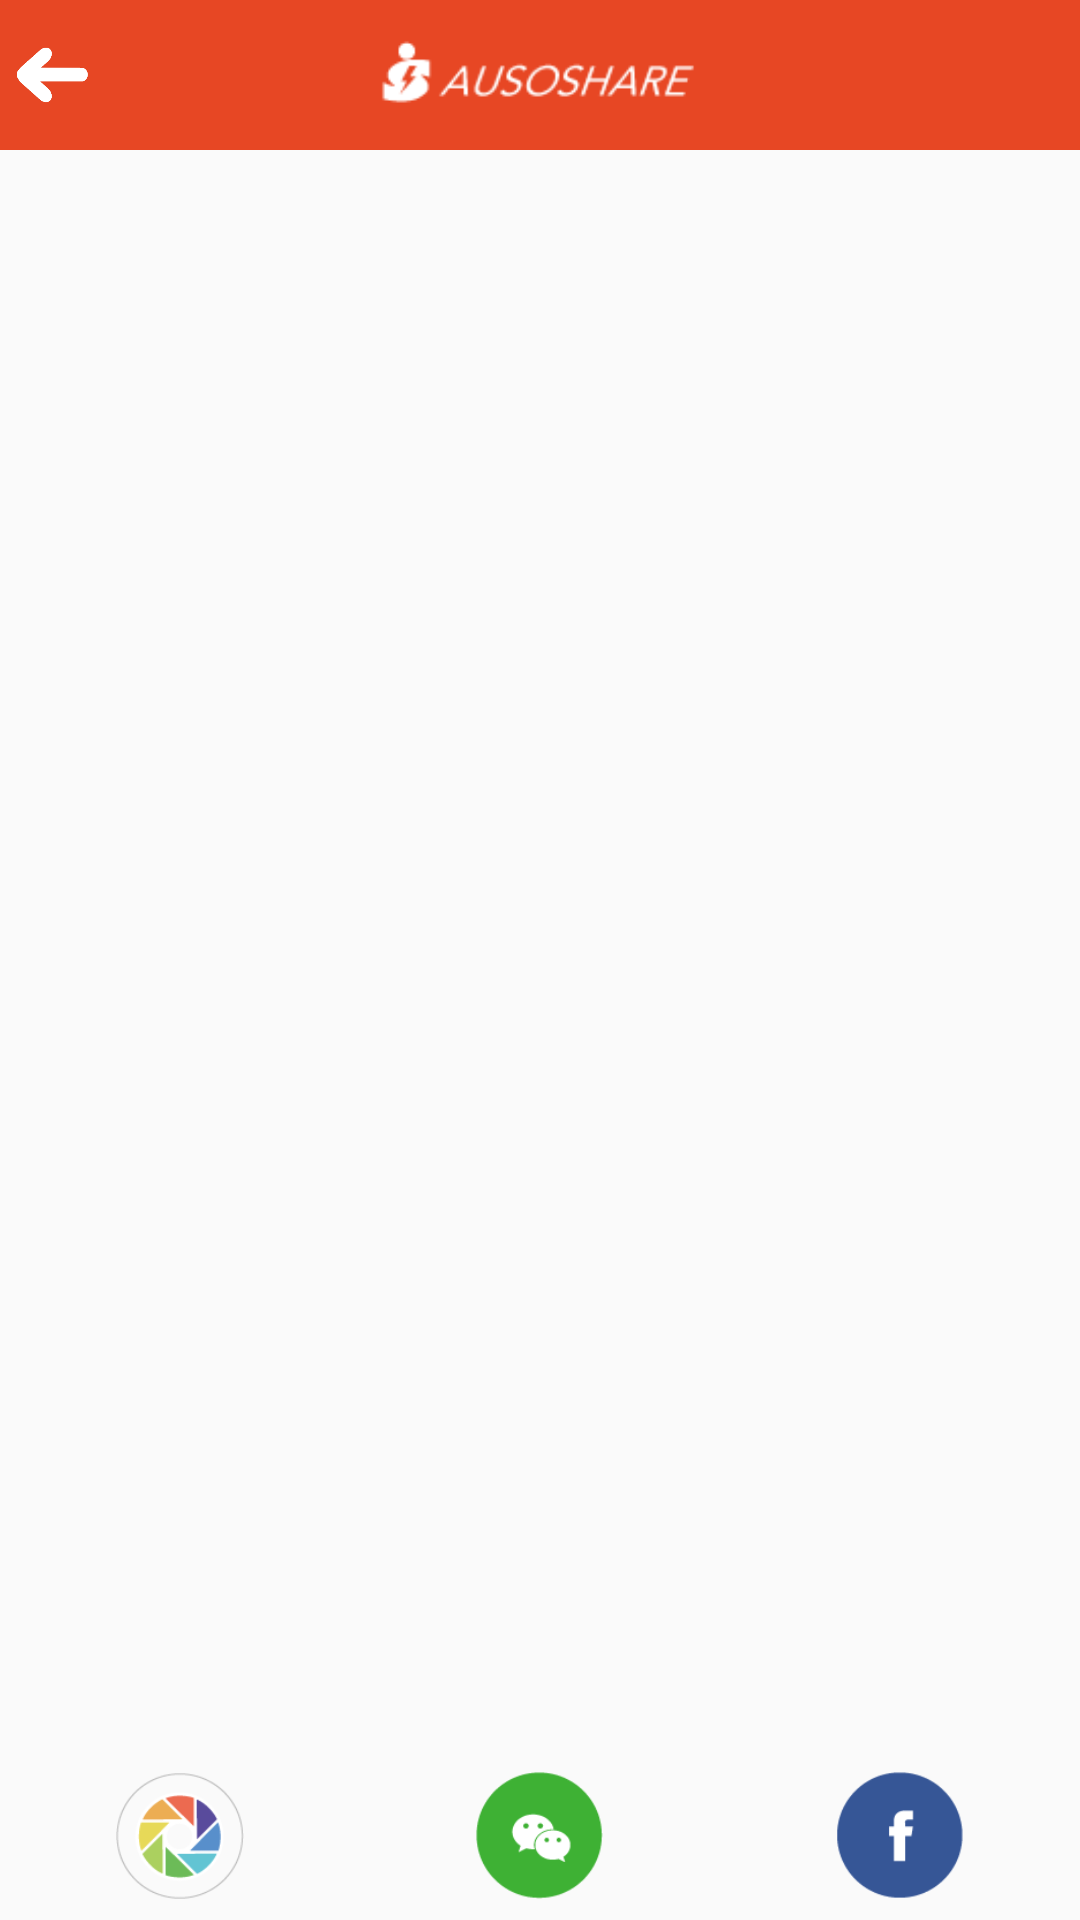

Icon bounding boxes for this 1080 x 1920 phone screenshot, format (x1, y1, x2, y2):
left arrow: (17, 48, 88, 102)
